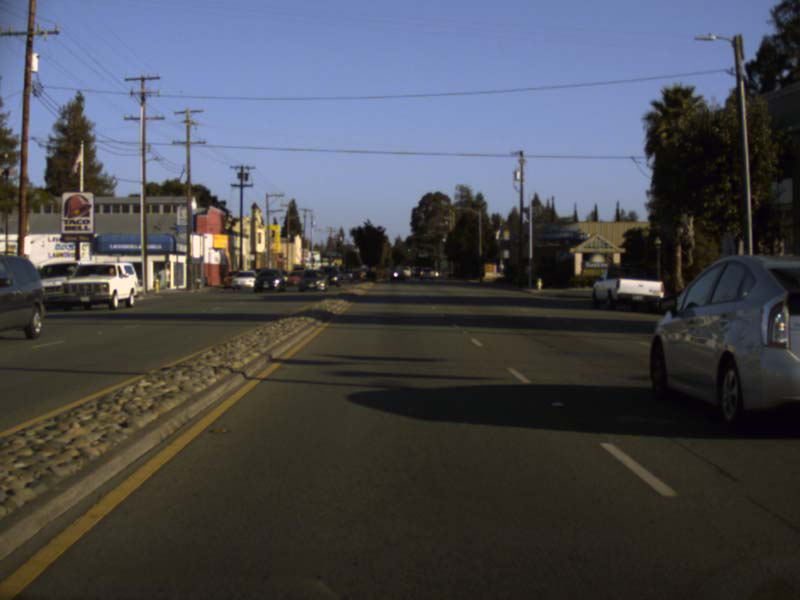Green: (406, 248, 410, 252)
